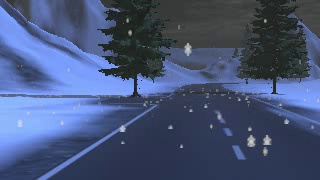Lane: (36, 82, 319, 179)
